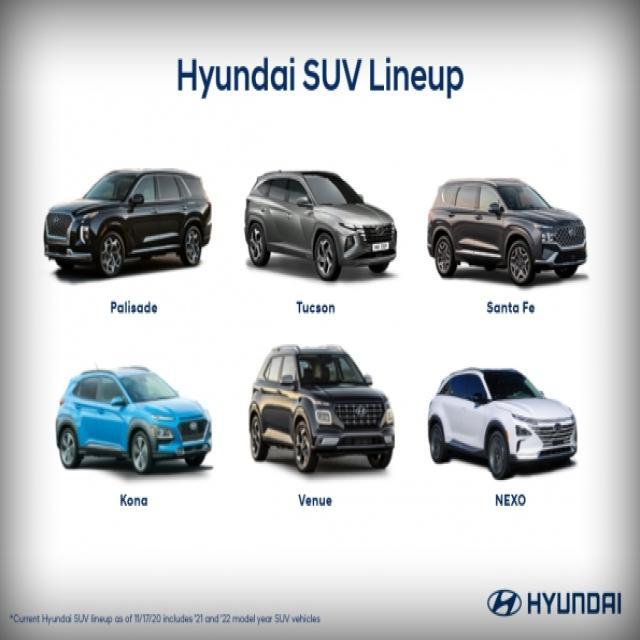sedan: (248, 343, 397, 476), (43, 166, 212, 276), (426, 174, 588, 284), (422, 368, 584, 478), (51, 364, 213, 474), (243, 168, 397, 280)
